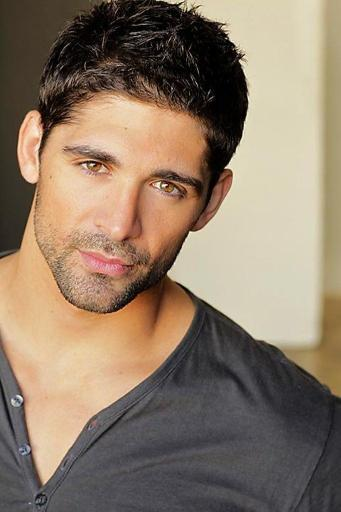left_eye: (142, 180, 187, 198)
left_lip_corner: (119, 261, 137, 271)
right_eye: (71, 159, 114, 178)
right_lip_corner: (77, 245, 96, 261)
